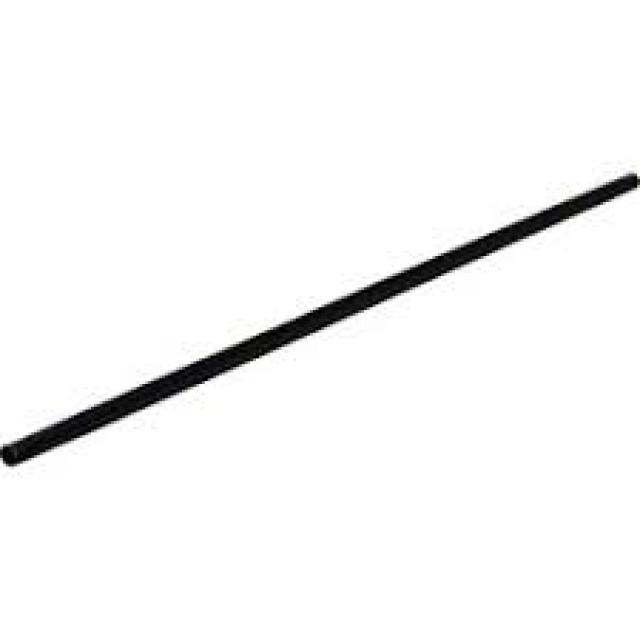straw: (0, 179, 640, 464)
